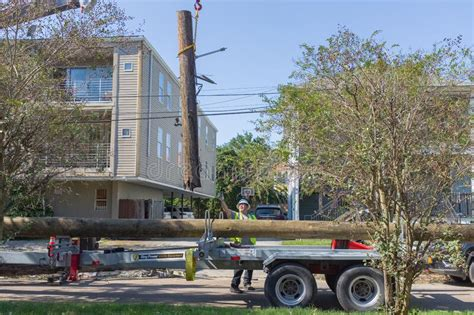pole: (166, 7, 221, 207)
